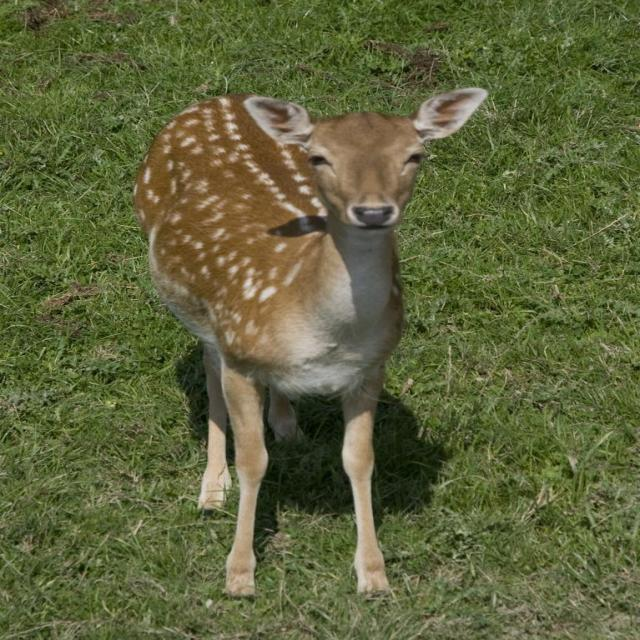Deer: (128, 89, 486, 599)
